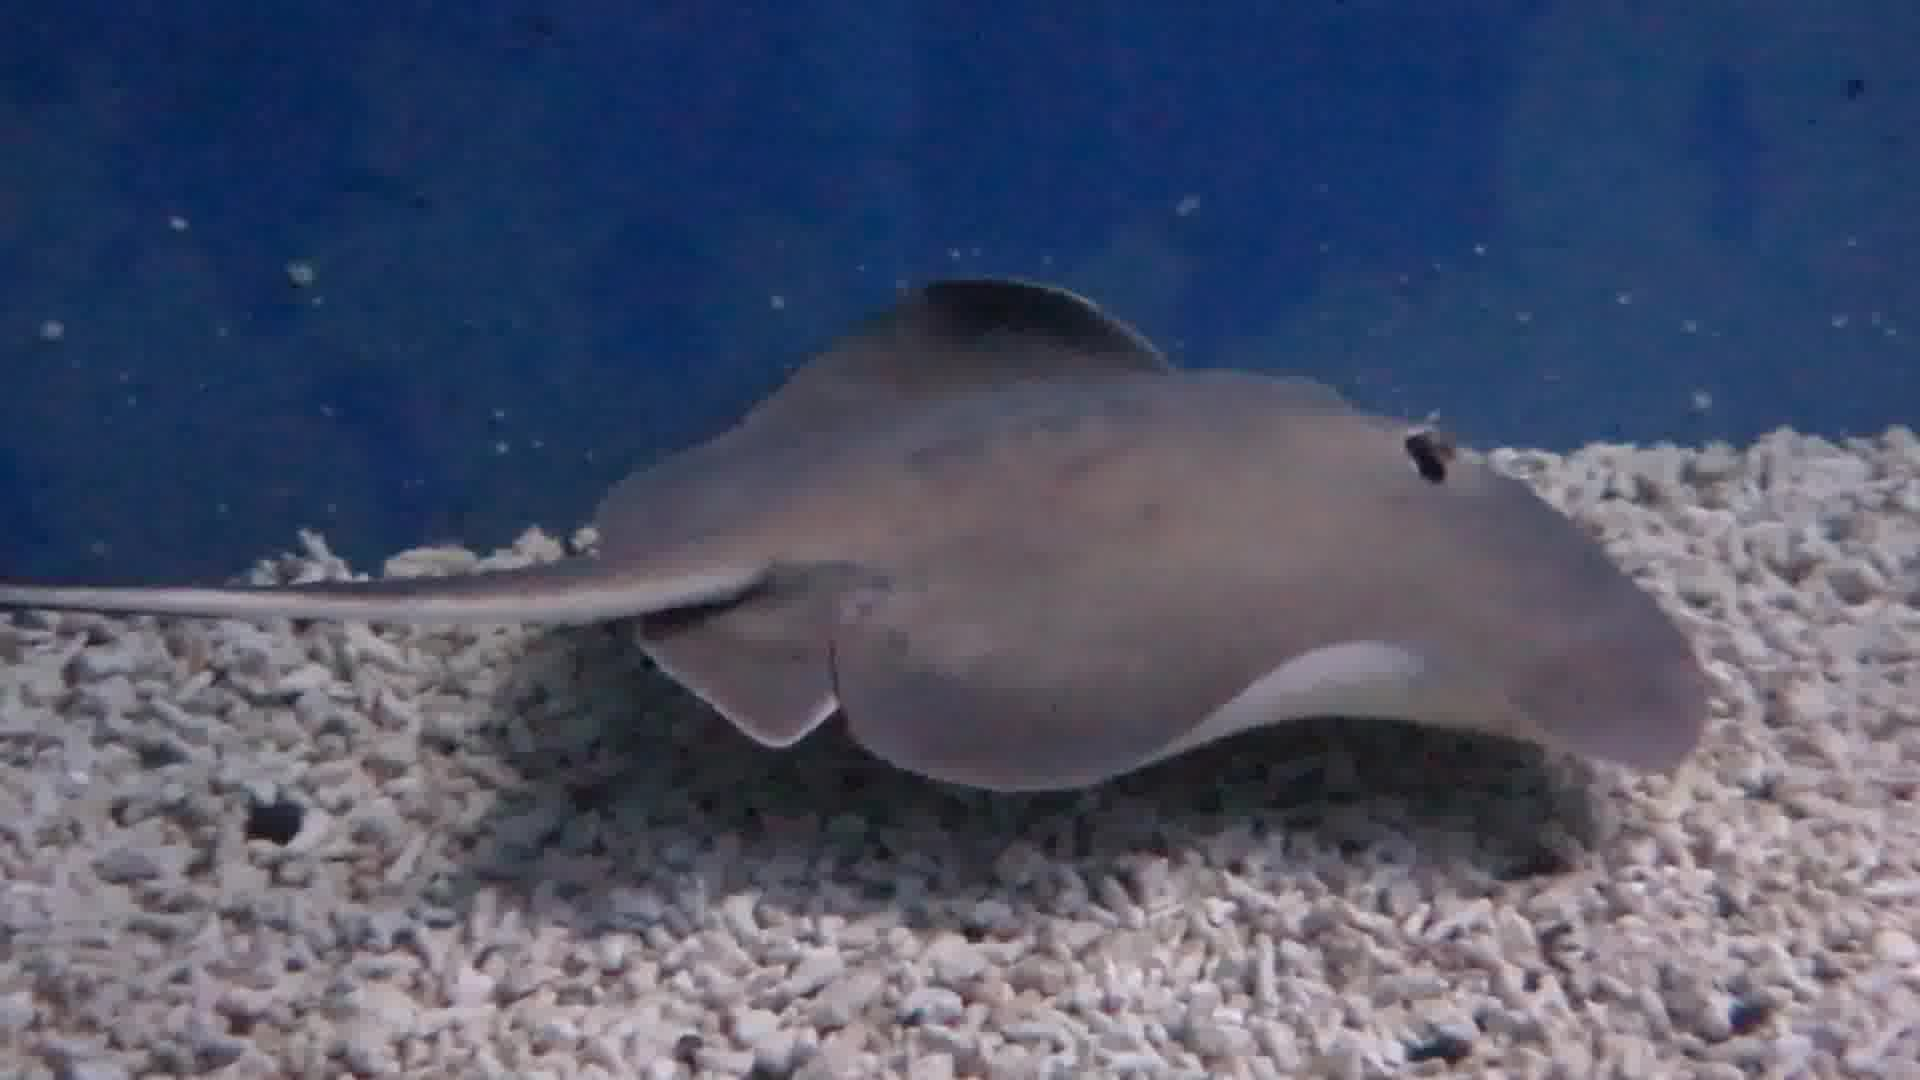Dasyatis bennetti: (505, 102, 1753, 942)
